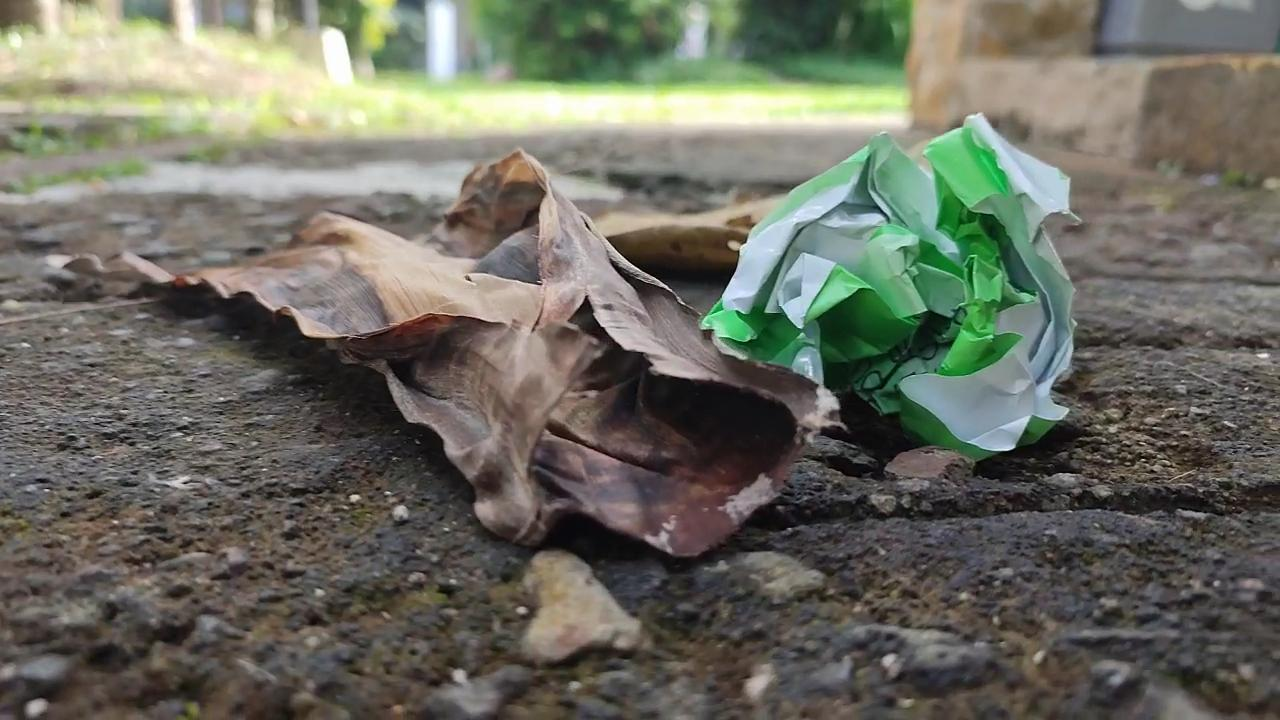Paper: (675, 98, 1083, 469)
